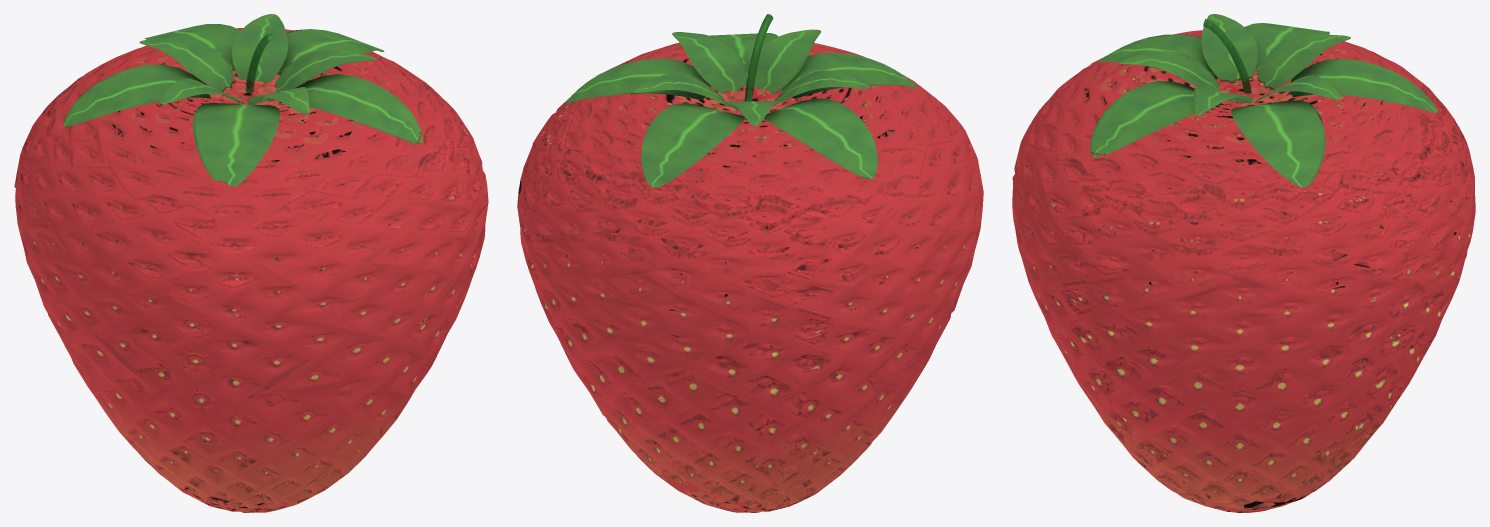
Rendered from Strawberry.glb.
The picture shows the model from 3 angles, left to right: view 1: azimuth 30°, elevation 25°; view 2: azimuth 150°, elevation 25°; view 3: azimuth 270°, elevation 25°; orthographic projection.
Visible parts, largest first — view 1: mesh; view 2: mesh; view 3: mesh.
Part boxes in pixels (x1=…): mesh: x1=14, y1=14, x2=488, y2=512; mesh: x1=517, y1=14, x2=983, y2=512; mesh: x1=1012, y1=14, x2=1475, y2=512.
Bounding box in the file's own units: 2.67 × 3.07 × 2.67.
Materials: 1 (1 with a texture image).
